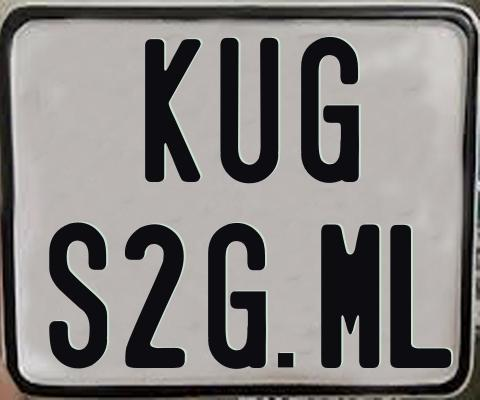2: (122, 222, 188, 367)
G: (300, 34, 362, 182), (208, 220, 268, 367)
K: (142, 37, 203, 185)
L: (389, 223, 454, 371)
M: (320, 222, 383, 371)
S: (49, 221, 113, 368)
U: (220, 35, 282, 182)
